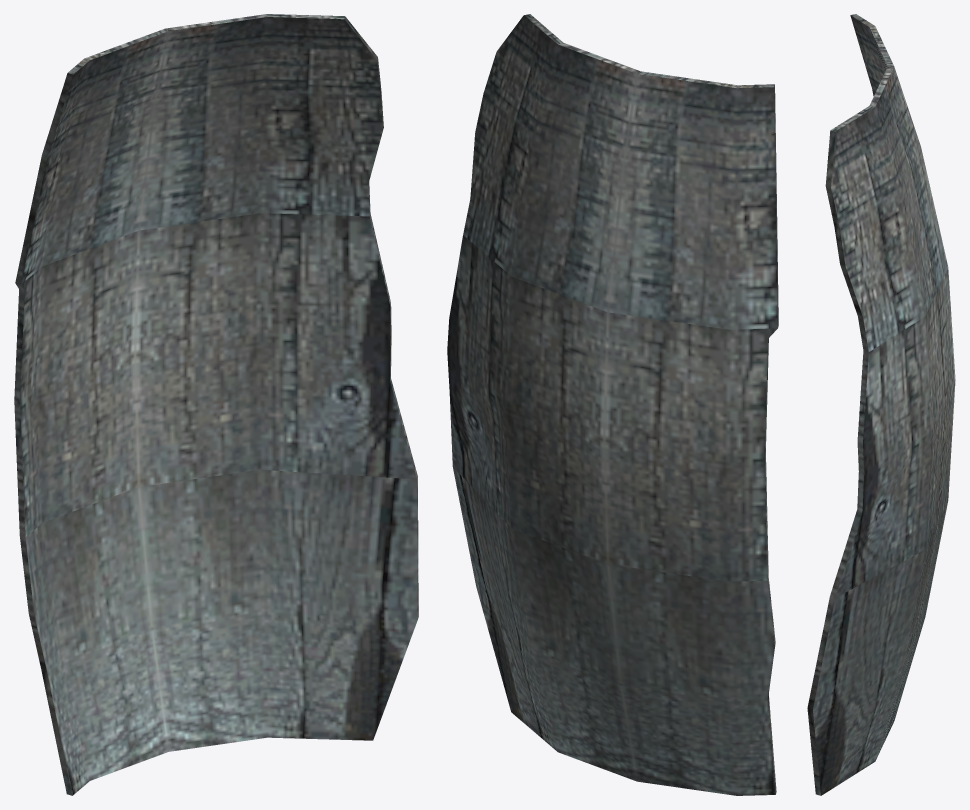
Rendered from wine_barrel_p7.glb.
The picture shows the model from 3 angles, left to right: view 1: azimuth 30°, elevation 25°; view 2: azimuth 150°, elevation 25°; view 3: azimuth 270°, elevation 25°; orthographic projection. The views are drawn at different scales.
Parts seen in each view (by area): view 1: wine_barrel_p7; view 2: wine_barrel_p7; view 3: wine_barrel_p7.
Boxes of the visible parts, bbox=[...] form: wine_barrel_p7: bbox=[14, 14, 418, 795]; wine_barrel_p7: bbox=[447, 14, 778, 795]; wine_barrel_p7: bbox=[807, 14, 955, 795].
Size of the model in its own units: 0.4488 by 0.8425 by 0.1727.
1 material, 1 textured.
